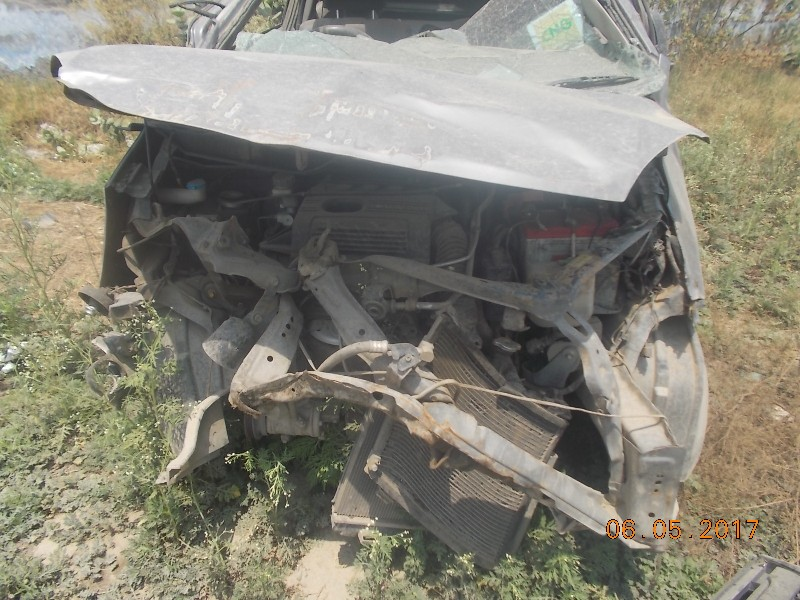Large_tear_or_damage: (96, 103, 717, 590)
